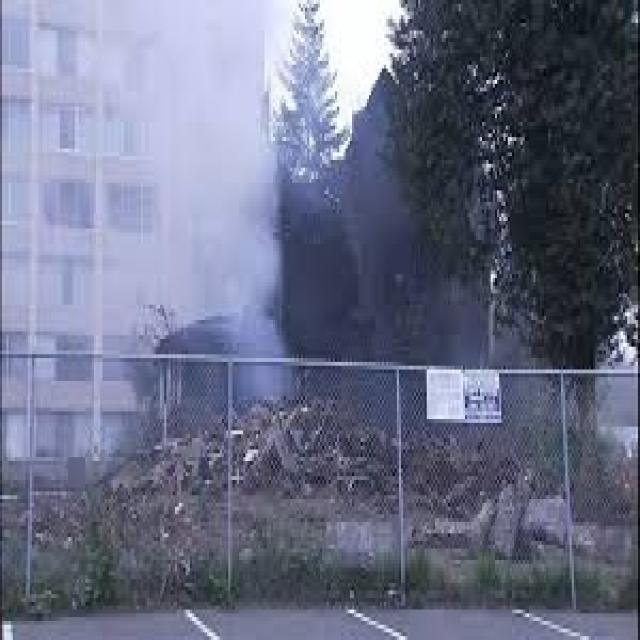Smoke: (0, 0, 294, 453)
